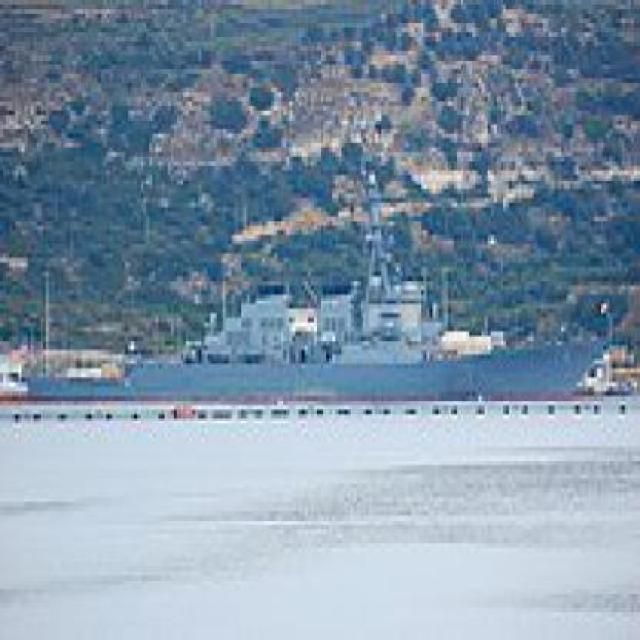warship2: (19, 190, 599, 421)
